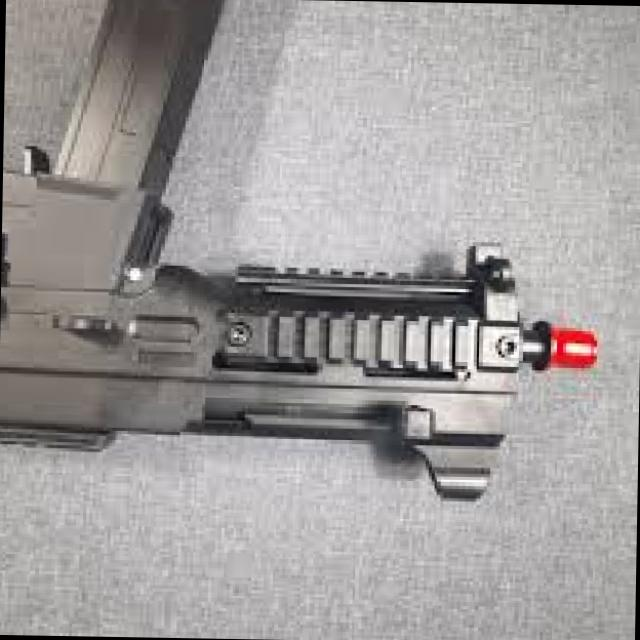Gun: (0, 0, 630, 519)
